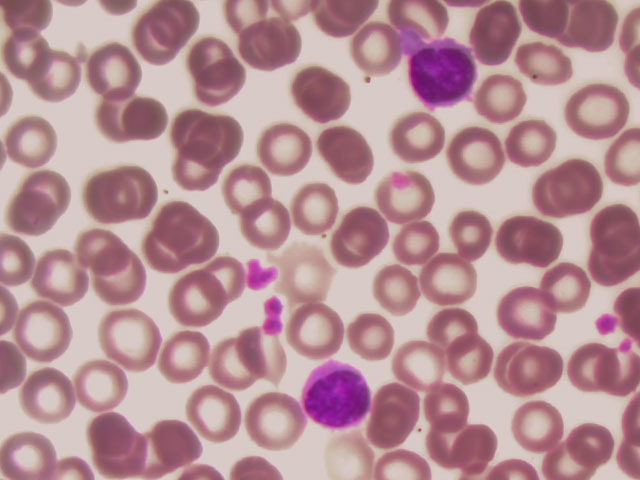Platelets: (259, 289, 293, 336), (245, 255, 281, 290), (588, 310, 619, 338)
RBC: (26, 50, 83, 104), (85, 45, 142, 99), (117, 92, 174, 146), (87, 92, 144, 146), (6, 116, 63, 170), (19, 164, 76, 218), (3, 186, 60, 240), (34, 249, 91, 303), (76, 218, 133, 272), (91, 253, 148, 307), (138, 218, 195, 272), (115, 162, 172, 216), (85, 175, 142, 229), (168, 144, 225, 198), (190, 115, 247, 169), (162, 106, 219, 160), (257, 122, 314, 176), (221, 161, 278, 215), (237, 196, 294, 250), (287, 182, 344, 236), (334, 209, 391, 263), (321, 130, 378, 184), (297, 67, 354, 121), (195, 53, 252, 107), (192, 35, 249, 89), (134, 3, 191, 57), (368, 262, 425, 316), (426, 259, 483, 313), (390, 218, 447, 272), (384, 169, 441, 223), (447, 208, 504, 262), (499, 213, 556, 267), (540, 165, 597, 219), (510, 119, 567, 173), (455, 129, 512, 183), (391, 111, 448, 165), (423, 300, 480, 354), (444, 329, 501, 383), (394, 342, 451, 396), (350, 303, 407, 357), (292, 302, 349, 356), (234, 333, 291, 387), (209, 341, 266, 395), (158, 332, 215, 386), (103, 314, 160, 368), (75, 354, 132, 408), (24, 369, 81, 423), (16, 306, 73, 360), (87, 415, 144, 469), (145, 420, 202, 474), (190, 385, 247, 439), (248, 395, 305, 449), (367, 391, 424, 445), (420, 375, 477, 429), (427, 419, 484, 473), (508, 400, 565, 454), (508, 343, 565, 397), (498, 291, 555, 345), (541, 263, 598, 317), (566, 83, 623, 137), (518, 39, 575, 93), (471, 72, 528, 126), (350, 24, 407, 78), (244, 19, 301, 73), (286, 246, 343, 300), (168, 276, 225, 330), (191, 247, 248, 301), (174, 206, 231, 260)
WBC: (302, 361, 371, 428), (408, 36, 477, 103)
